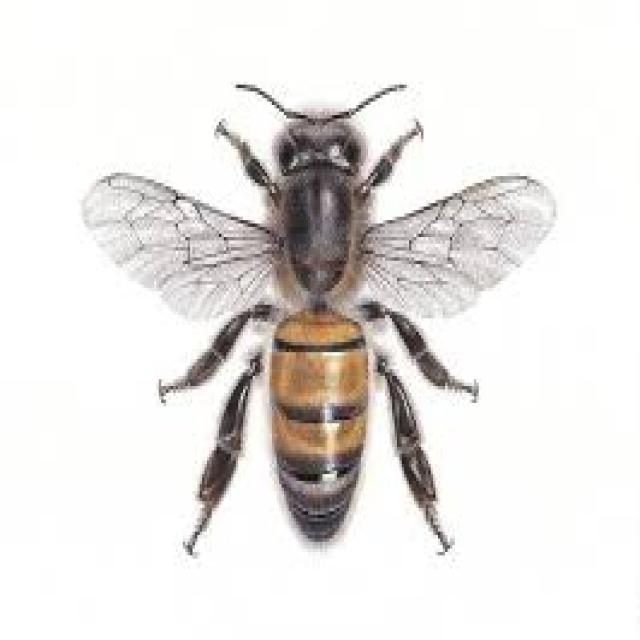Bees: (78, 71, 559, 568)
